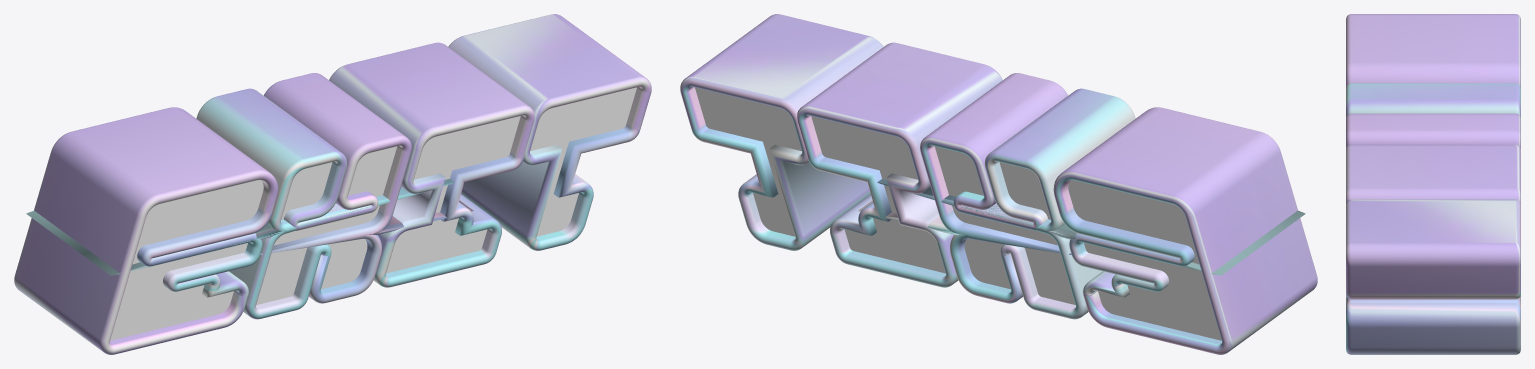
The model's file is exit buttonz.fbx.
3 views of the same model, side by side, from view 1: azimuth 30°, elevation 25°; view 2: azimuth 150°, elevation 25°; view 3: azimuth 270°, elevation 25° (orthographic). The views are drawn at different scales.
Parts seen in each view (by area): view 1: Text.001, Text; view 2: Text.001, Text; view 3: Text.001.
Part boxes in pixels (<box>): Text.001: <box>14,14,651,354</box>; Text: <box>110,87,636,340</box>; Text.001: <box>680,14,1317,354</box>; Text: <box>695,87,1221,340</box>; Text.001: <box>1346,14,1520,354</box>.
Bounding box in the file's own units: 353 × 91.38 × 100.
